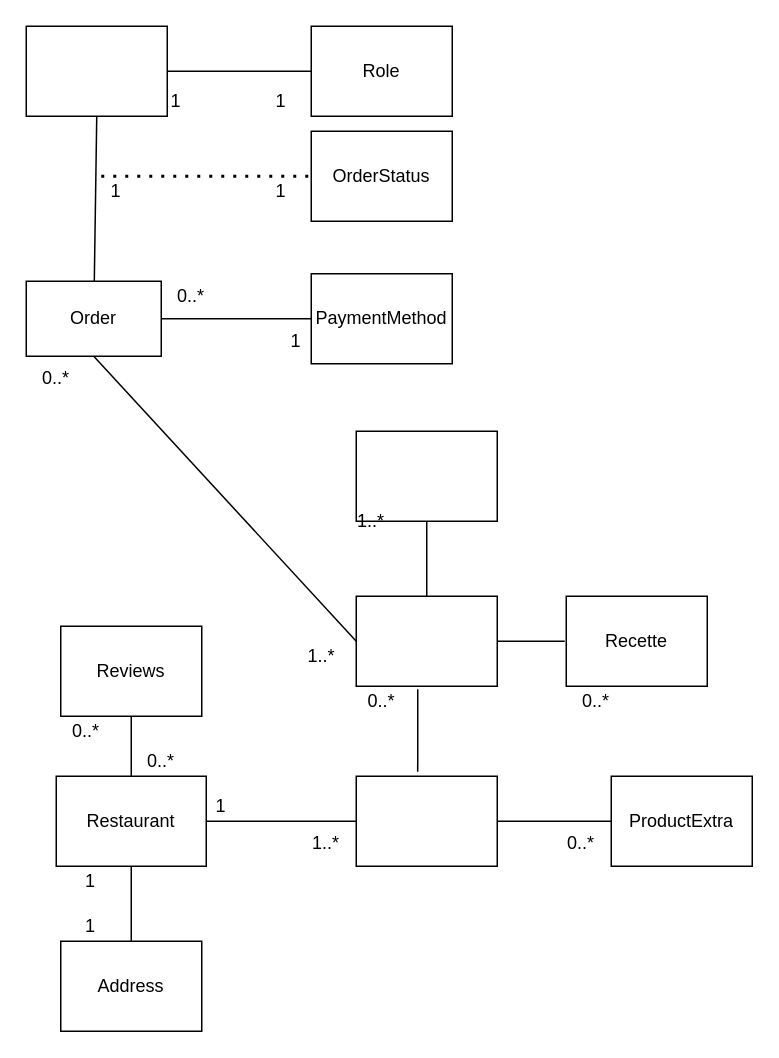
The diagram is 779 pixels wide and 1058 high, and some of its shapes have lost their labels. Here are the shapes that lost their labels. From the top down, the box of each, then its label:
(25, 25, 167, 116): User
(355, 430, 497, 521): Ingredient
(355, 595, 497, 686): Pizza
(355, 775, 497, 866): Stock
